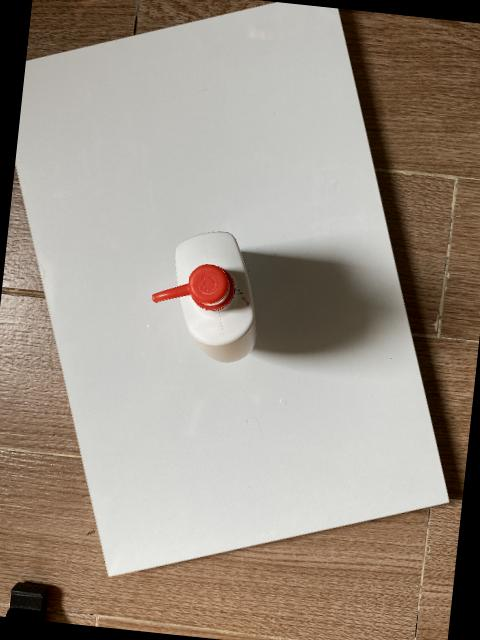life-buoy: (151, 232, 256, 364)
